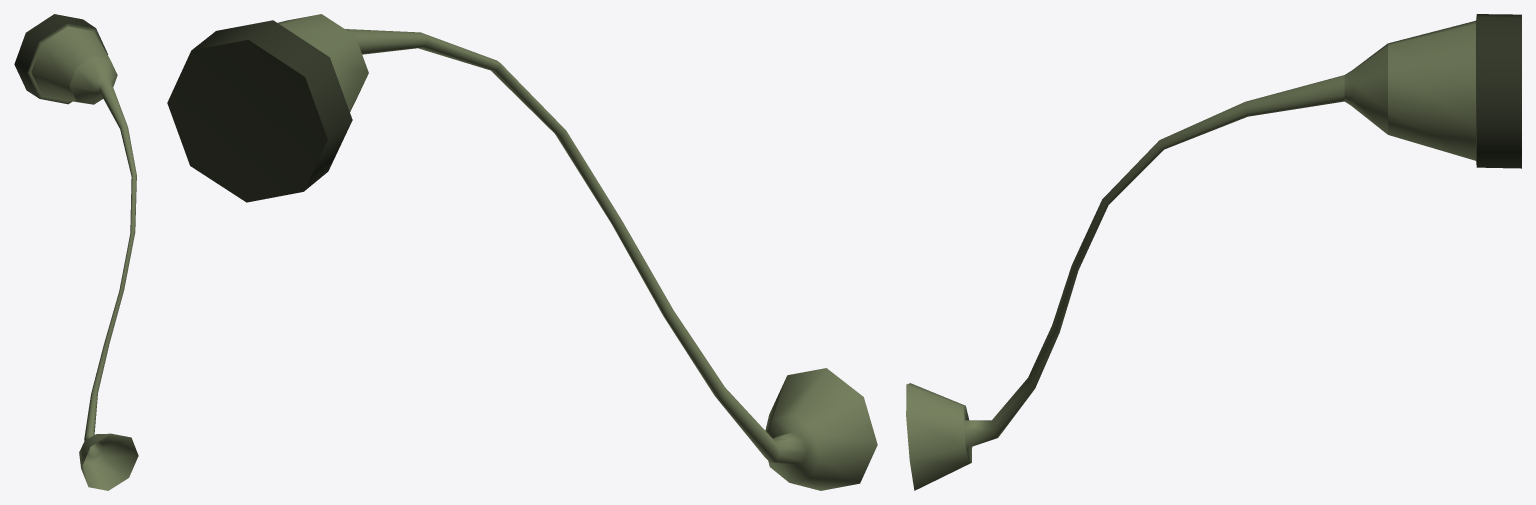
Rendered from plug.fbx.
3 views of the same model, side by side, from view 1: azimuth 30°, elevation 25°; view 2: azimuth 150°, elevation 25°; view 3: azimuth 270°, elevation 25° (orthographic). The views are drawn at different scales.
Visible parts, largest first — view 1: polySurface5; view 2: polySurface5; view 3: polySurface5.
Part boxes in pixels (box(x1,y1,x2,y2)): polySurface5: box(14, 14, 138, 490); polySurface5: box(167, 14, 877, 490); polySurface5: box(906, 14, 1521, 490).
Bounding box in the file's own units: 215 × 357 × 348.
